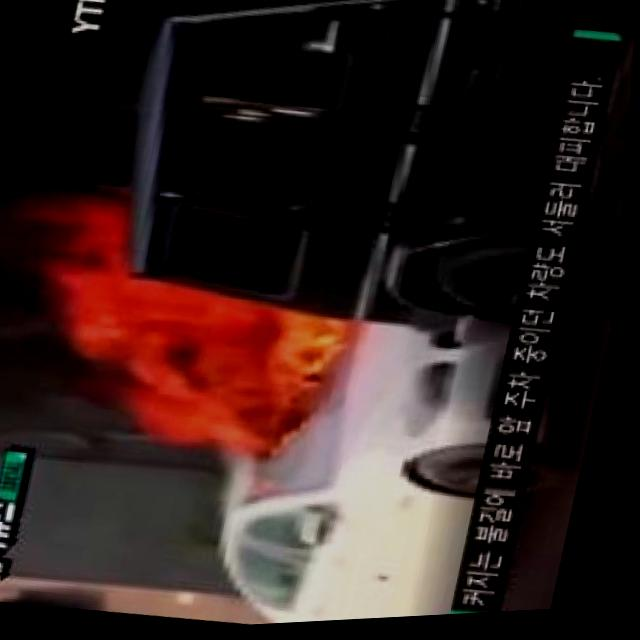helmet: (40, 254, 359, 458)
